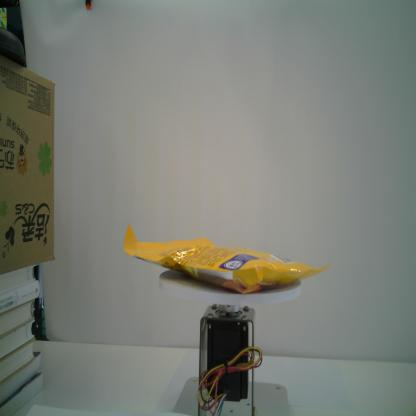Dried Fruit: (123, 223, 333, 296)
